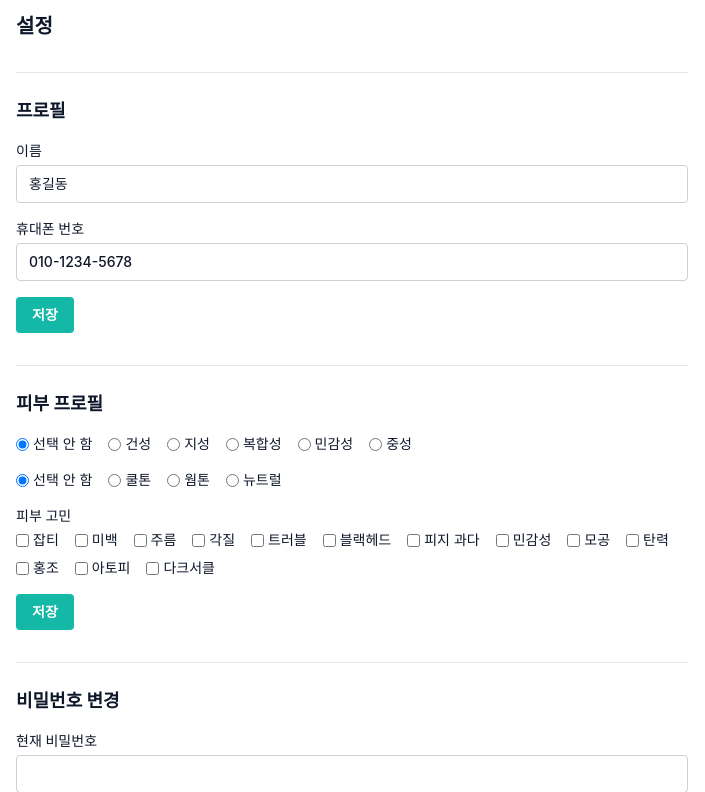
피부 프로필은 선택한 값으로 PUT한다
This screenshot has width=705, height=792.
Expected: the element named "피부 타입" is shown, [16,435,412,452]
Click the radio button labelled "건성" at (115, 444), box [108,438,121,450]
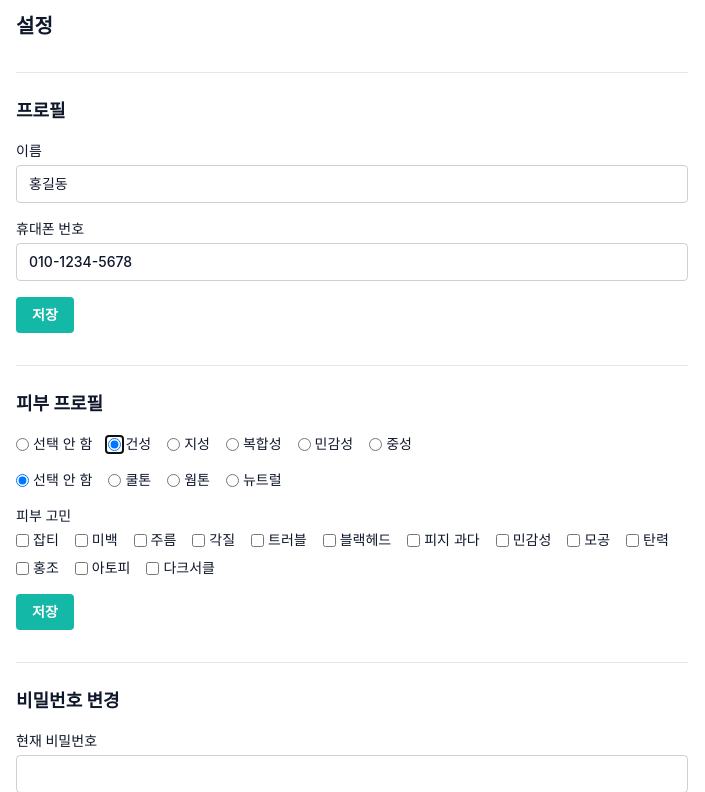
Click the checkbox labelled "모공" at (574, 540), box [567,534,580,546]
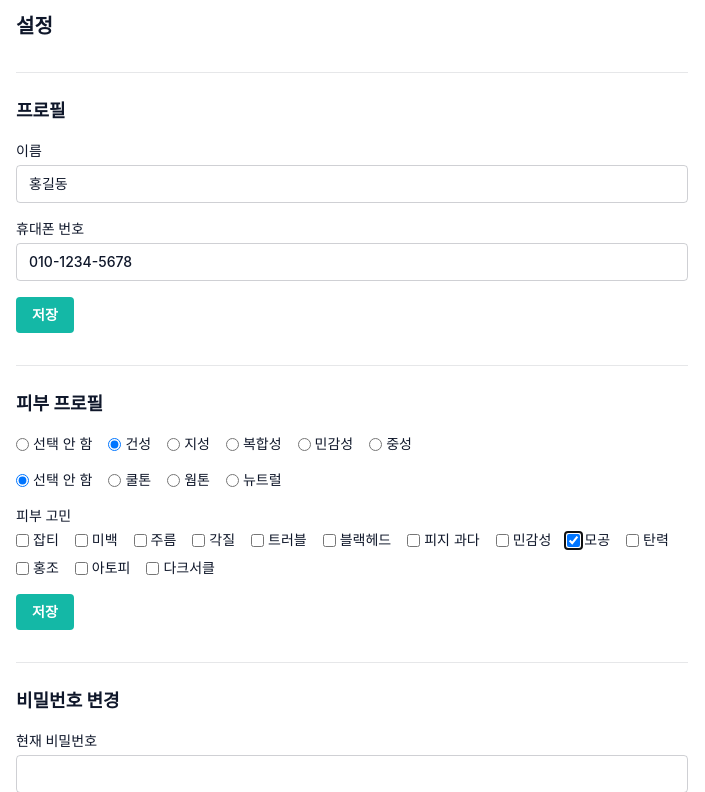
Click the checkbox labelled "주름" at (140, 540), box [134,534,146,546]
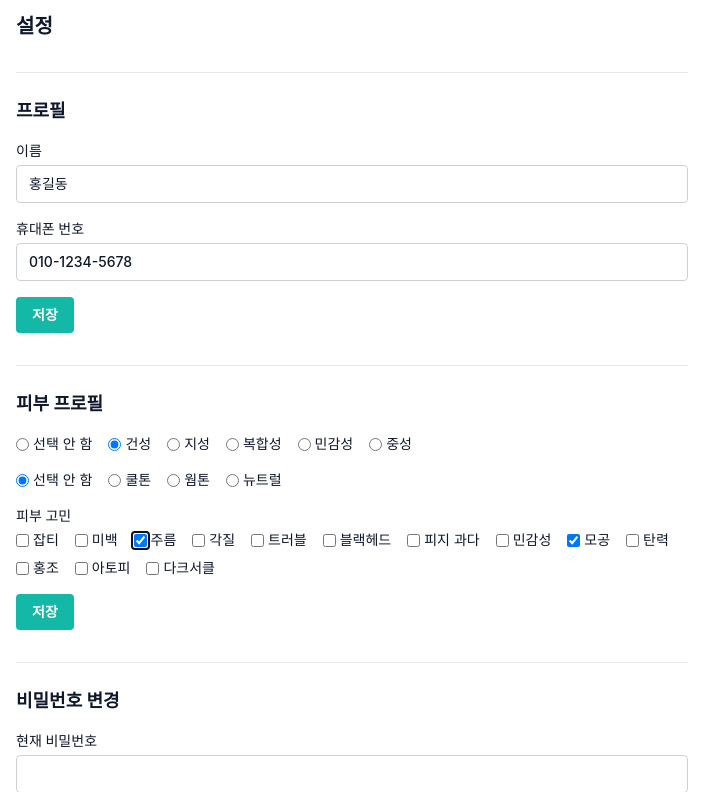
Click the button "저장" below "홍조" at (45, 612), box [16,594,74,630]
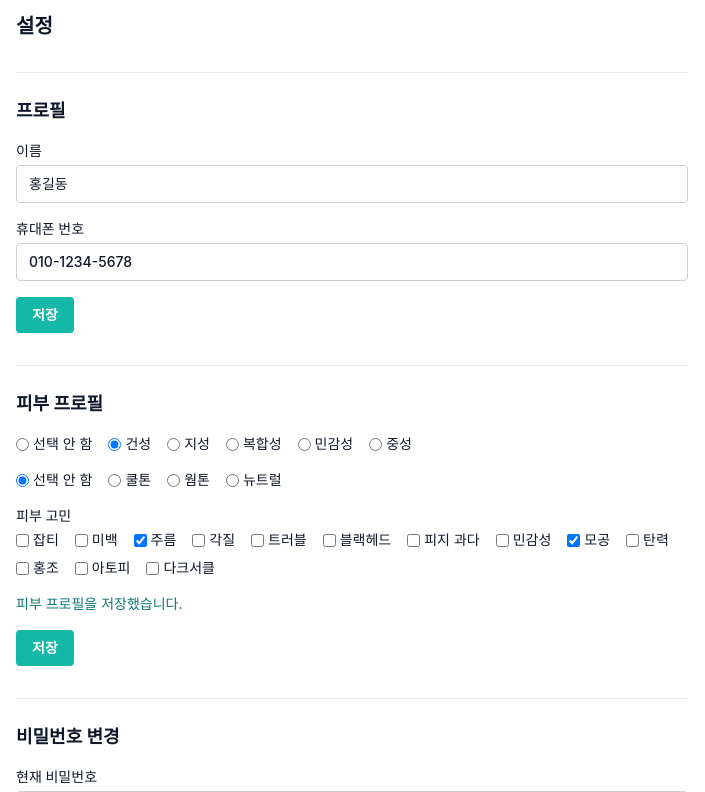
Expected: the message reads "피부 프로필을 저장했습니다.", [16,595,182,612]
